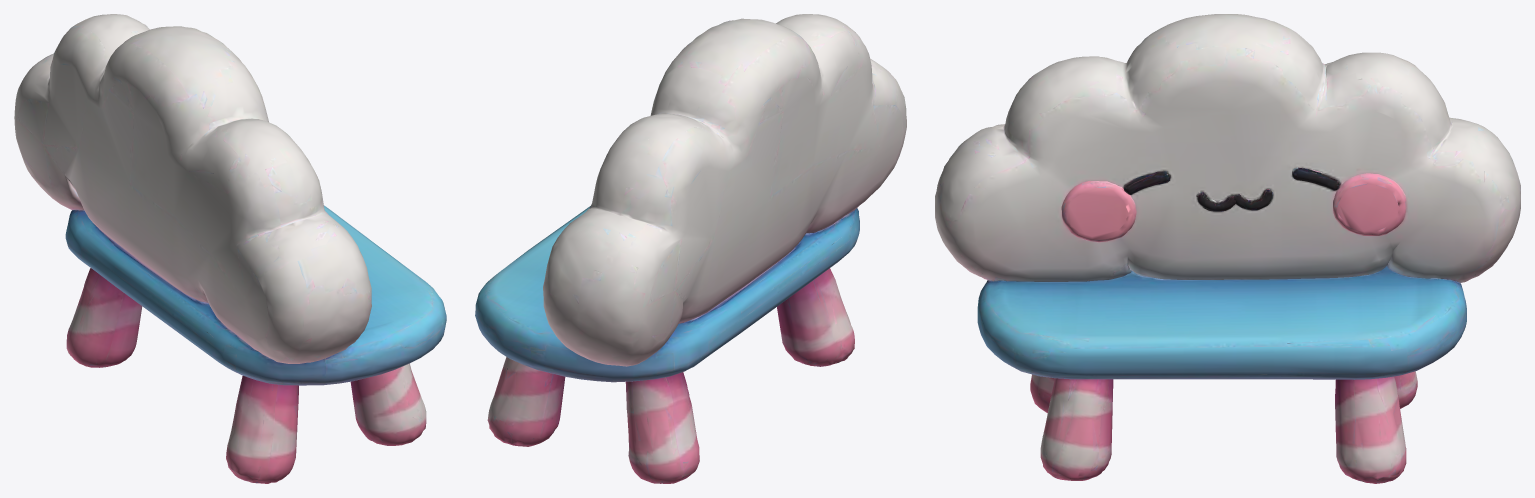
File: cloud-bench.glb
The picture shows the model from 3 angles, left to right: view 1: azimuth 30°, elevation 25°; view 2: azimuth 150°, elevation 25°; view 3: azimuth 270°, elevation 25°; orthographic projection.
Parts seen in each view (by area): view 1: tripo_node_ca3c7c9c-f3e6-4352-b92f-59ac9cf6a68a; view 2: tripo_node_ca3c7c9c-f3e6-4352-b92f-59ac9cf6a68a; view 3: tripo_node_ca3c7c9c-f3e6-4352-b92f-59ac9cf6a68a.
Boxes of the visible parts, bbox=[...] form: tripo_node_ca3c7c9c-f3e6-4352-b92f-59ac9cf6a68a: bbox=[14, 14, 446, 483]; tripo_node_ca3c7c9c-f3e6-4352-b92f-59ac9cf6a68a: bbox=[475, 14, 906, 483]; tripo_node_ca3c7c9c-f3e6-4352-b92f-59ac9cf6a68a: bbox=[935, 14, 1520, 483].
Size of the model in its own units: 0.4551 by 0.7285 by 0.998.
1 material, 1 textured.
